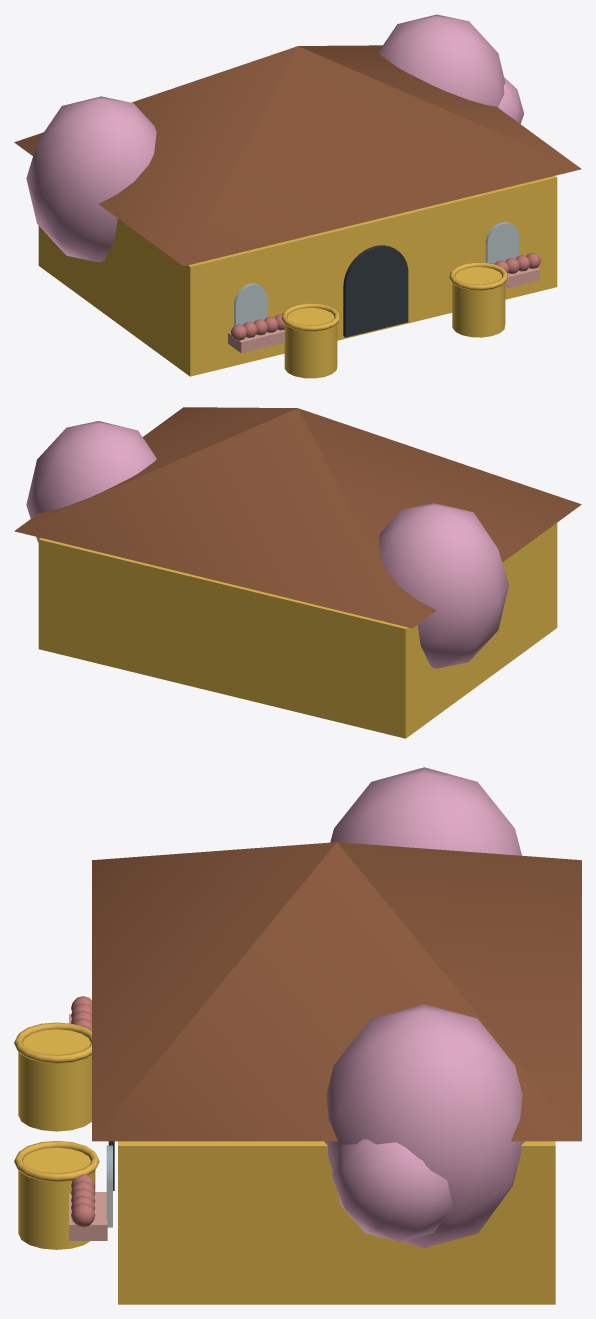
Rendered from pooh.glb.
The picture shows the model from 3 angles, top to bottom: view 1: azimuth 30°, elevation 25°; view 2: azimuth 150°, elevation 25°; view 3: azimuth 270°, elevation 25°; orthographic projection. The views are drawn at different scales.
Size of the model in its own units: 4.51 by 2.1 by 3.25.
